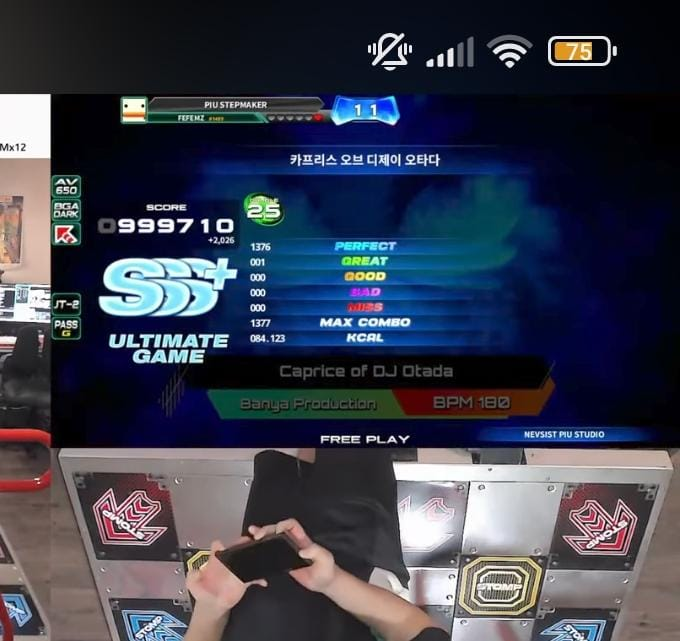difficulty: (239, 181, 290, 230)
fullscore: (53, 100, 411, 431)
rank: (99, 246, 235, 339)
score: (104, 194, 232, 233)
song_name: (204, 145, 550, 175)
